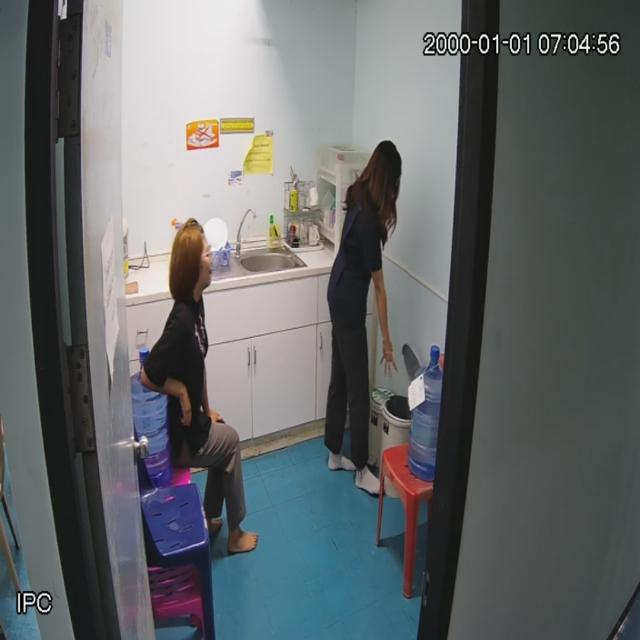normal: (144, 221, 255, 551), (326, 141, 402, 495)
